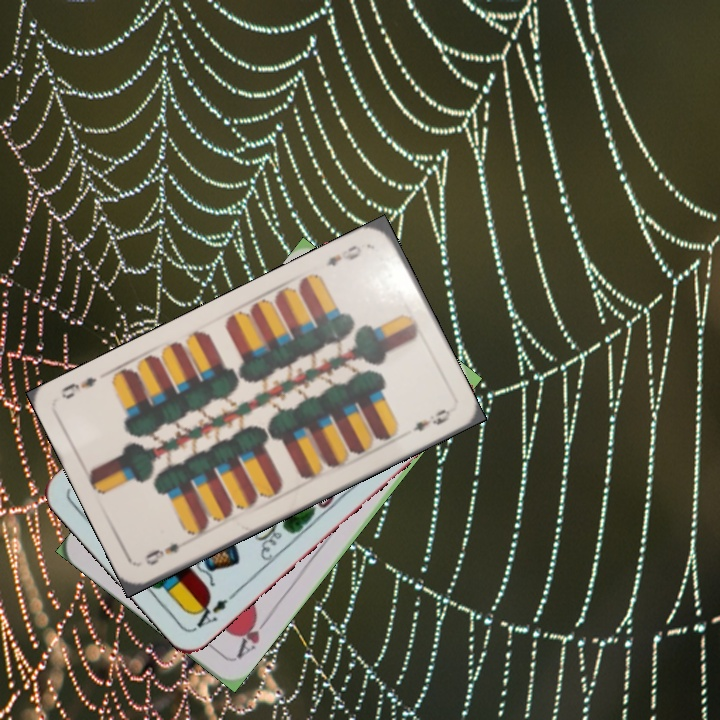E9: (322, 241, 365, 269), (141, 539, 182, 568)
EA: (189, 587, 240, 632)
HA: (232, 609, 273, 661)
